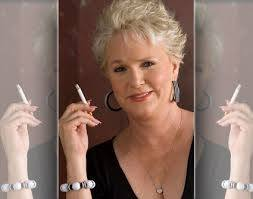cigarette: (72, 83, 92, 114), (224, 83, 243, 113), (14, 84, 33, 111)
